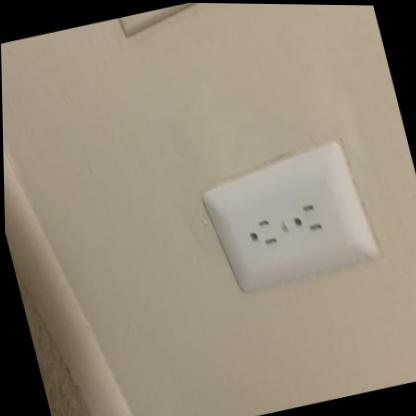OUTLET: (194, 141, 382, 297)
